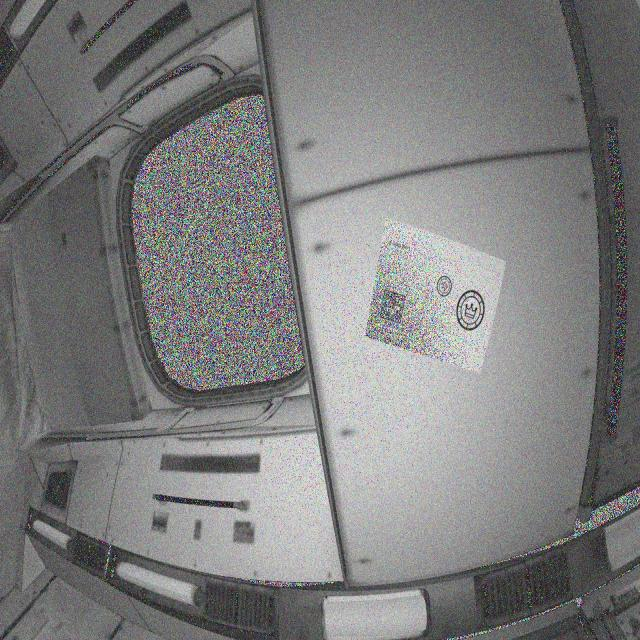coin: (457, 288, 489, 336), (437, 274, 455, 299)
